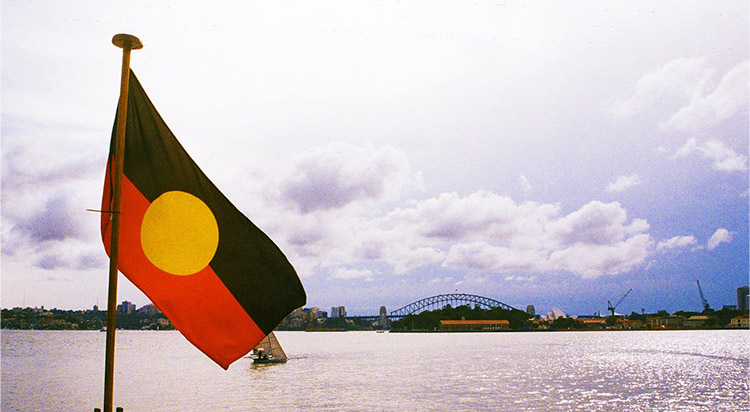aboriginal_flag: (90, 66, 315, 381)
